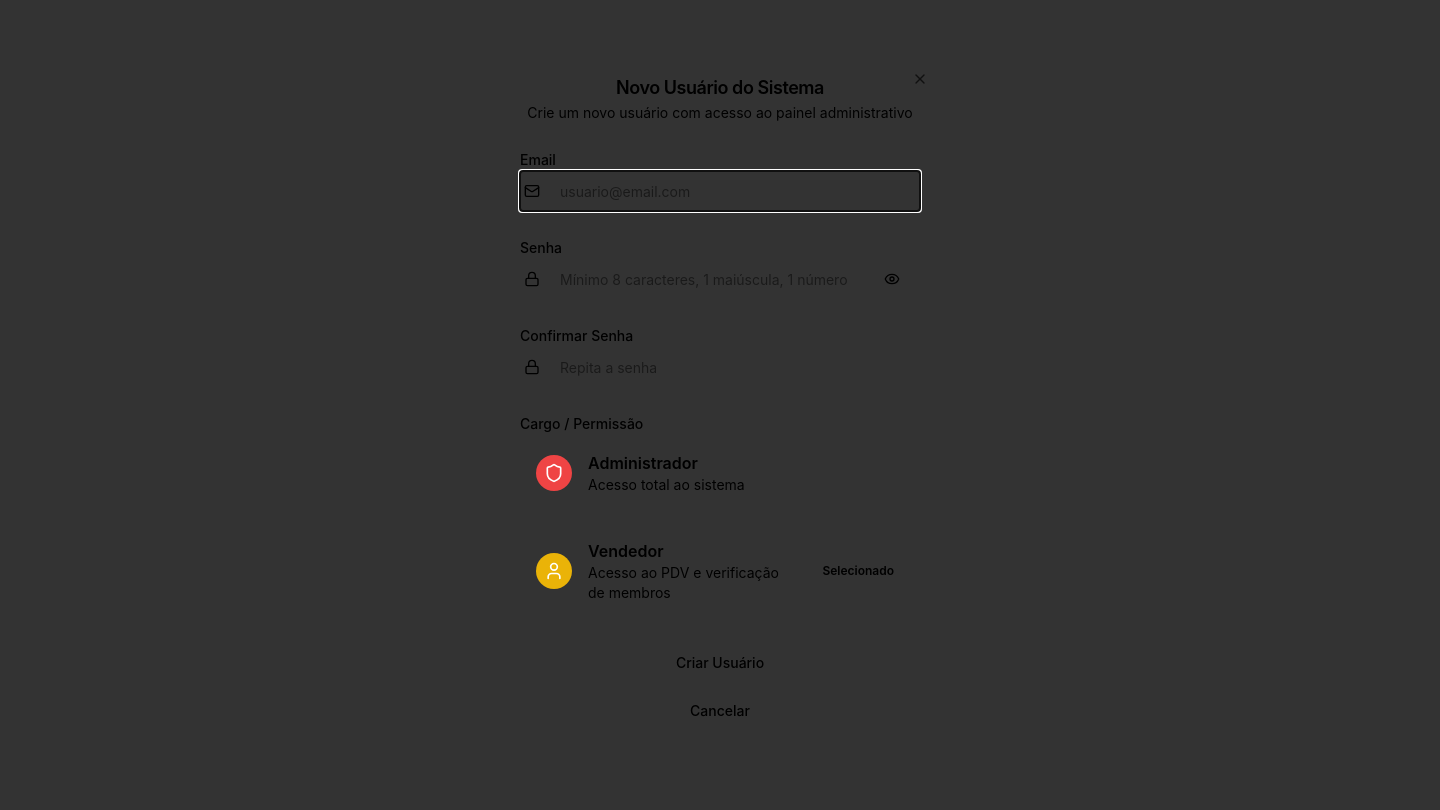
Test: UserModal › has password toggle button
Click the button named "Mostrar senha". click: (892, 279)
box: [884,271,900,287]
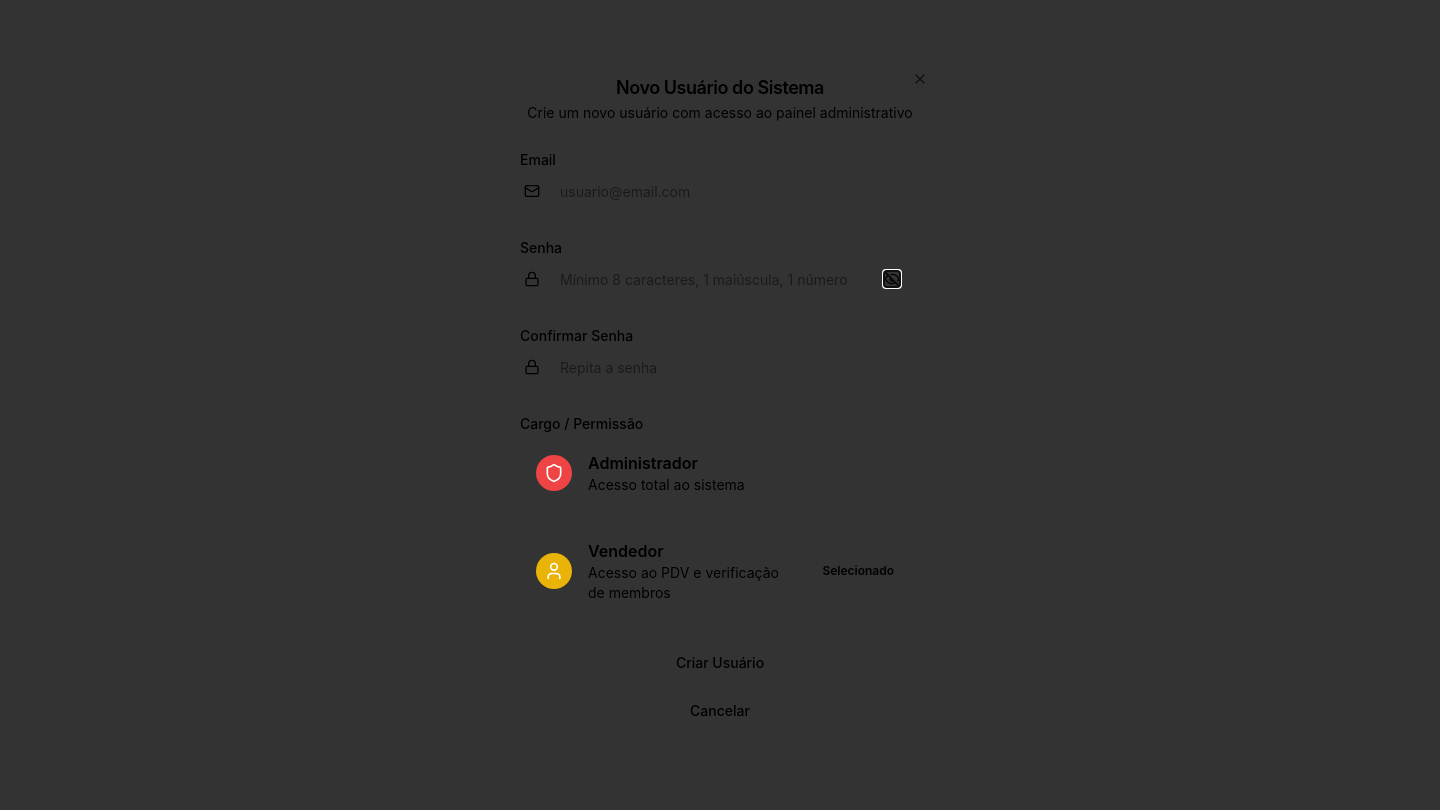
Result: the button named "Ocultar senha" is shown at [884,271,900,287]
